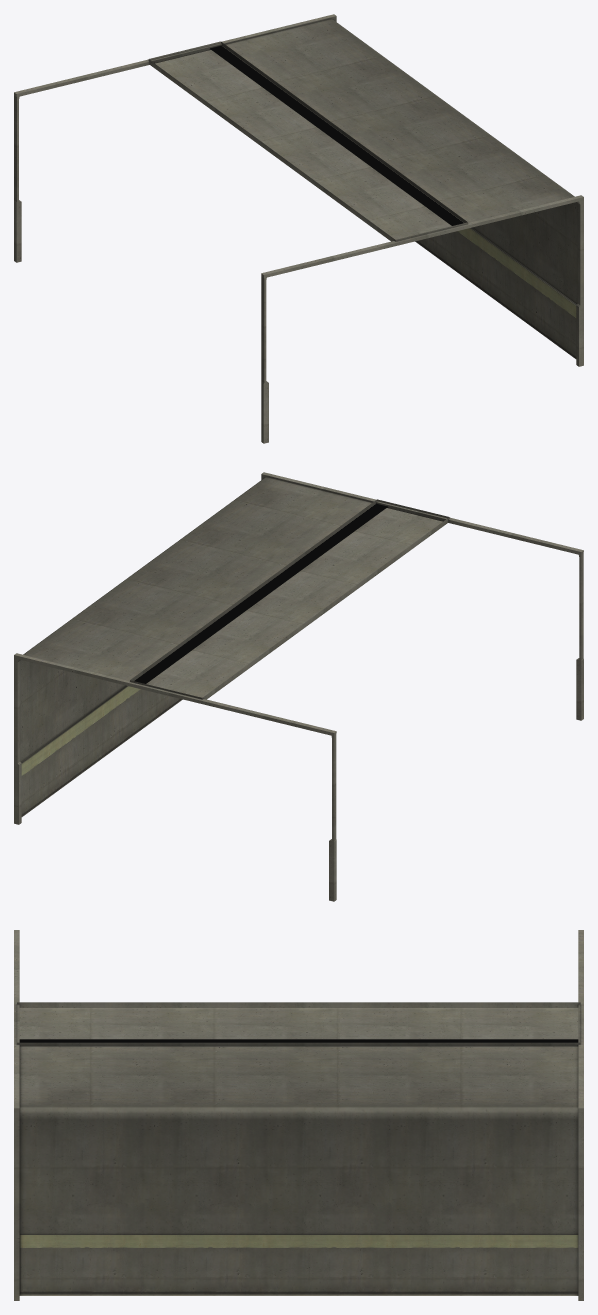
The model's file is Tun_boxy.fbx.
3 renders of one model, top to bottom at view 1: azimuth 30°, elevation 25°; view 2: azimuth 150°, elevation 25°; view 3: azimuth 270°, elevation 25°, orthographic. The views are drawn at different scales.
Visible parts, largest first — view 1: halfside, topmiddle, middle, middle2; view 2: halfside, topmiddle, middle2, middle; view 3: halfside, topmiddle, middle2, middle.
Part boxes in pixels (<box>): halfside: <box>210,19,577,358</box>; topmiddle: <box>148,41,467,241</box>; middle: <box>261,195,583,443</box>; middle2: <box>14,14,336,262</box>; halfside: <box>20,477,387,816</box>; topmiddle: <box>130,499,449,699</box>; middle2: <box>14,653,336,901</box>; middle: <box>261,472,583,720</box>; halfside: <box>19,1039,578,1295</box>; topmiddle: <box>17,1002,580,1046</box>; middle2: <box>578,930,583,1300</box>; middle: <box>14,930,19,1300</box>.
Bounding box in the file's own units: 948 × 482 × 1281.
